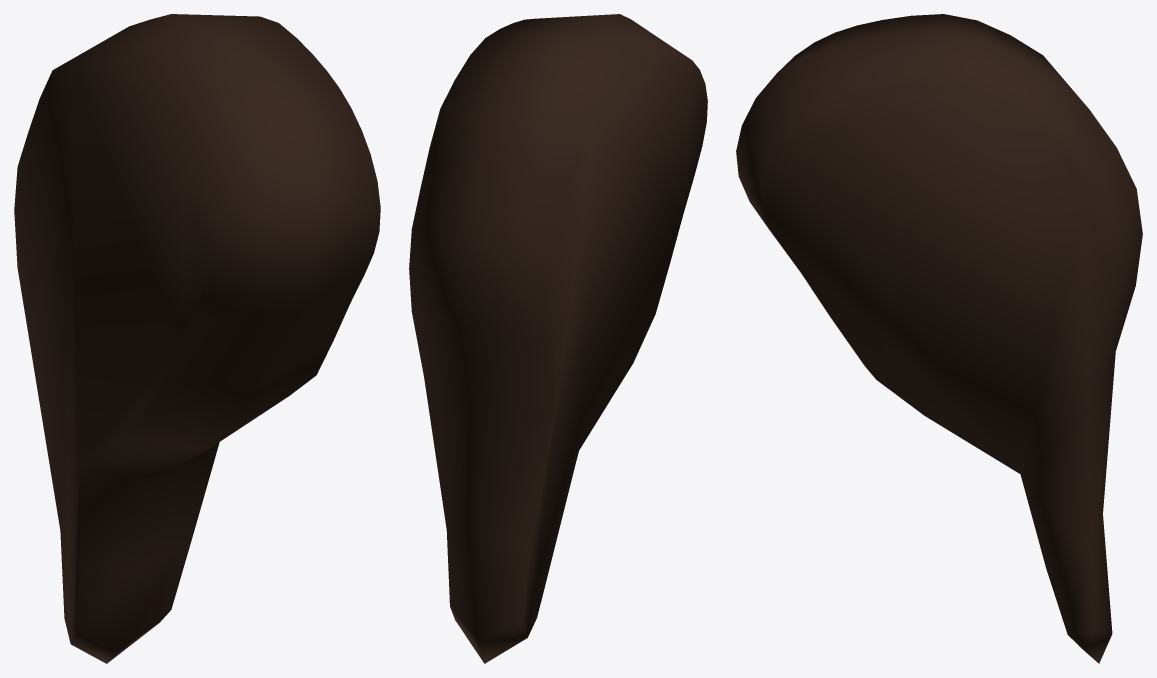
Rendered from Hair2F.glb.
3 views of the same model, side by side, from view 1: azimuth 30°, elevation 25°; view 2: azimuth 150°, elevation 25°; view 3: azimuth 270°, elevation 25° (orthographic). The views are drawn at different scales.
Parts seen in each view (by area): view 1: Hair2F.001; view 2: Hair2F.001; view 3: Hair2F.001.
Part boxes in pixels (<box>): Hair2F.001: <box>14,14,380,663</box>; Hair2F.001: <box>409,14,707,663</box>; Hair2F.001: <box>736,14,1142,663</box>.
Size of the model in its own units: 1.15 by 4.55 by 2.65.
